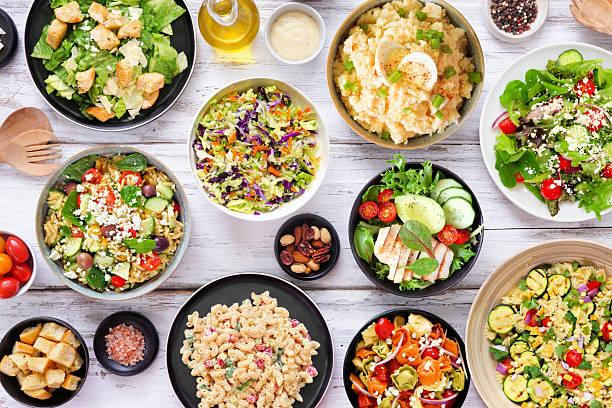Braised Crucian Carp: (464, 240, 609, 407), (478, 40, 608, 222), (36, 145, 187, 298), (327, 0, 477, 149), (165, 272, 331, 406), (22, 1, 192, 131), (187, 77, 324, 221), (349, 161, 482, 293)
